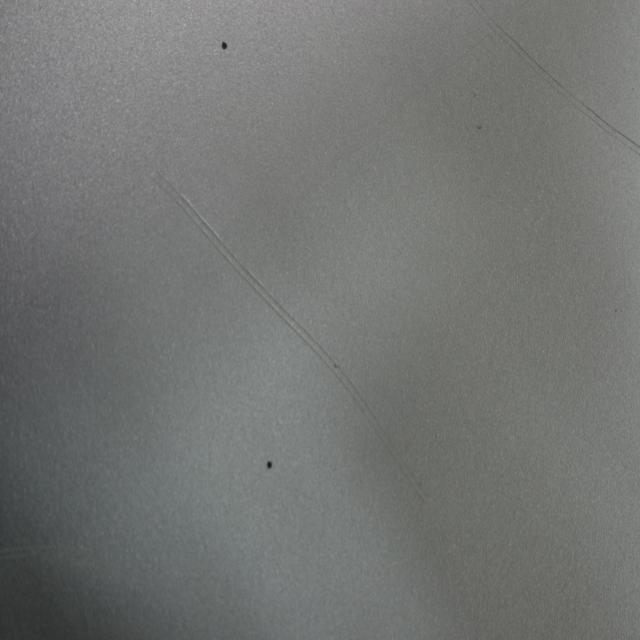dirt: (220, 39, 231, 52), (266, 457, 274, 473), (476, 120, 482, 132)
scratch: (146, 167, 432, 500), (465, 0, 640, 157)
